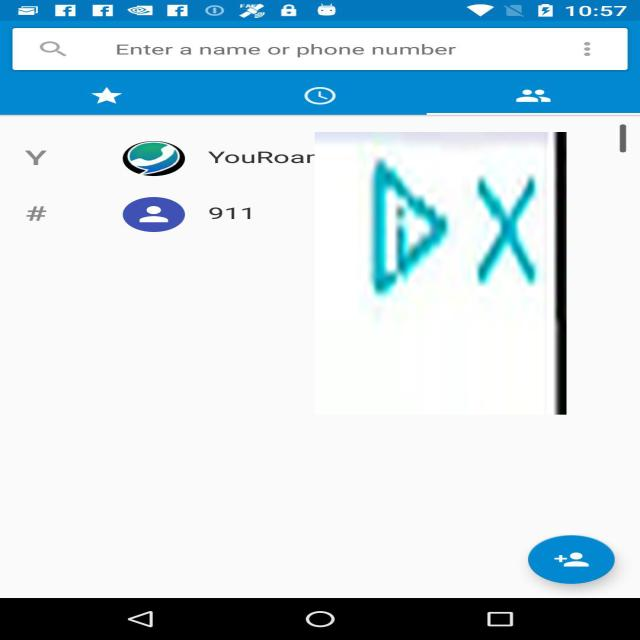sneaking: (314, 132, 566, 415)
